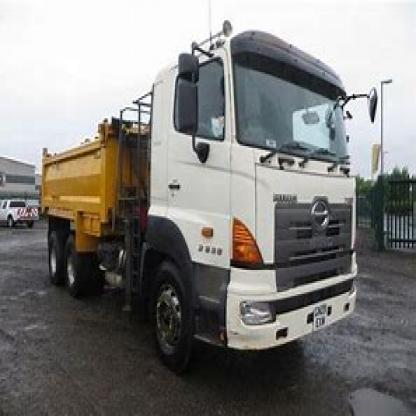dump_truck: (34, 22, 384, 368)
